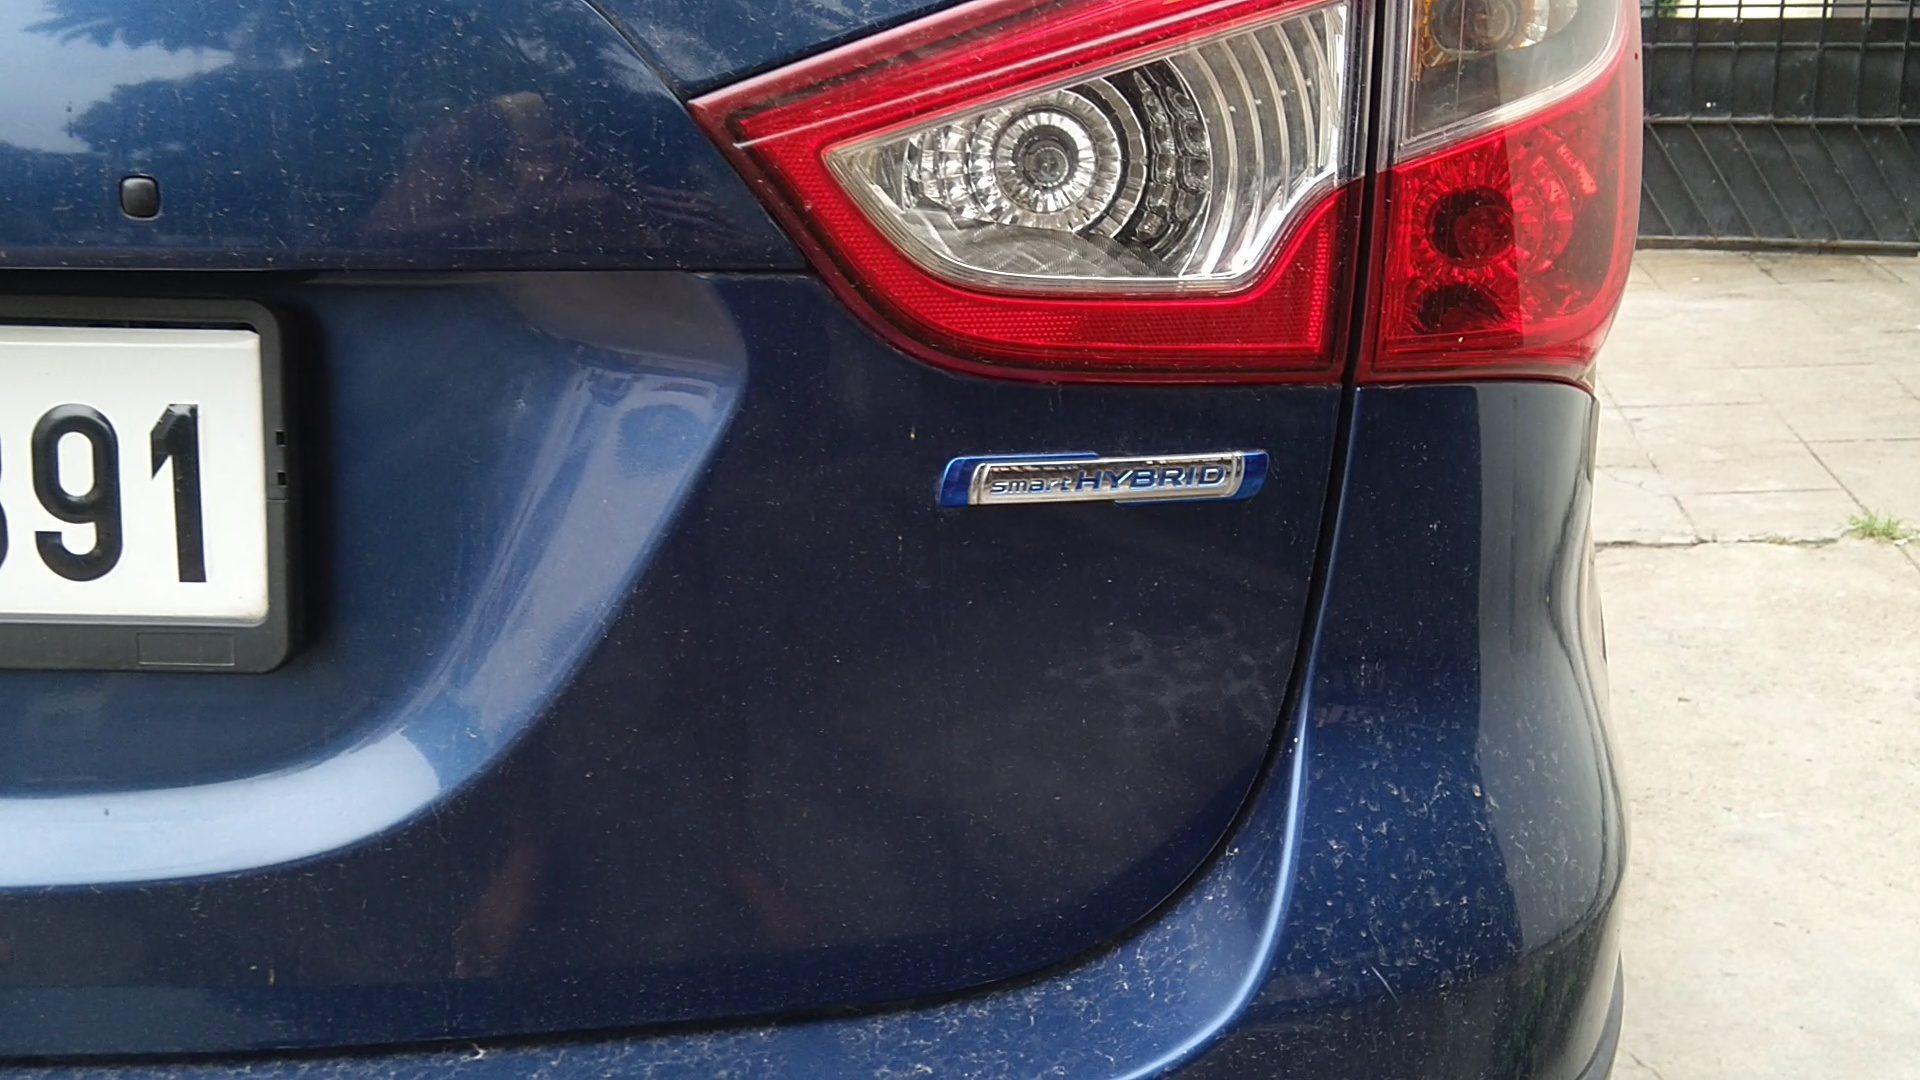shvs: (909, 413, 1303, 560)
